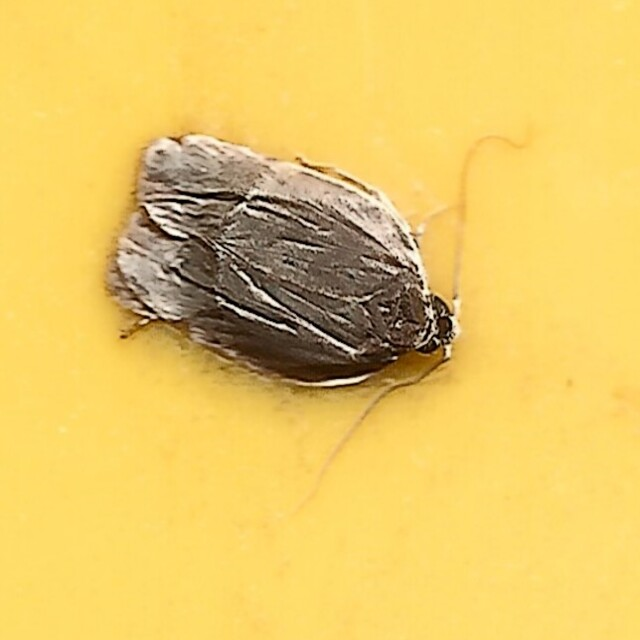Lepidoptera: (99, 120, 541, 520)
